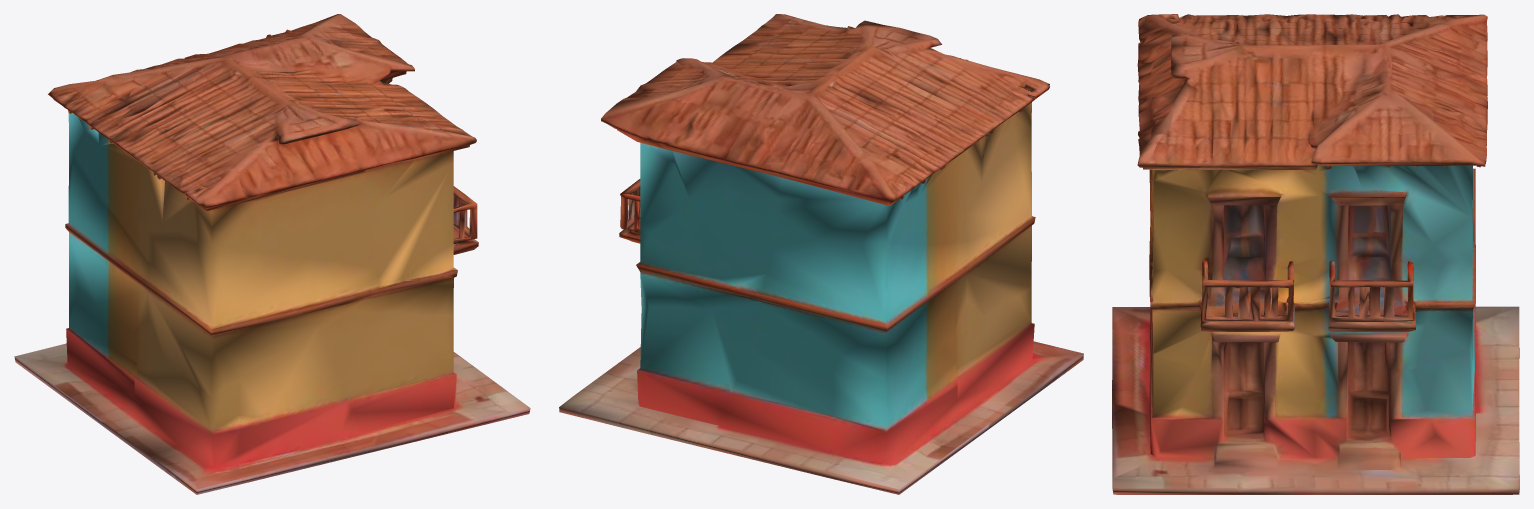
Rendered from pueblo-house.glb.
3 views of the same model, side by side, from view 1: azimuth 30°, elevation 25°; view 2: azimuth 150°, elevation 25°; view 3: azimuth 270°, elevation 25° (orthographic). The views are drawn at different scales.
Parts seen in each view (by area): view 1: tripo_node_d1c77706-d12c-4d83-809a-107d314b0edb; view 2: tripo_node_d1c77706-d12c-4d83-809a-107d314b0edb; view 3: tripo_node_d1c77706-d12c-4d83-809a-107d314b0edb.
Boxes of the visible parts, left/top/right/bottom form: tripo_node_d1c77706-d12c-4d83-809a-107d314b0edb: left=14, top=14, right=530, bottom=494; tripo_node_d1c77706-d12c-4d83-809a-107d314b0edb: left=559, top=14, right=1083, bottom=494; tripo_node_d1c77706-d12c-4d83-809a-107d314b0edb: left=1112, top=14, right=1519, bottom=494.
Size of the model in its own units: 0.9996 by 0.8937 by 0.9449.
Materials: 1 (1 with a texture image).
